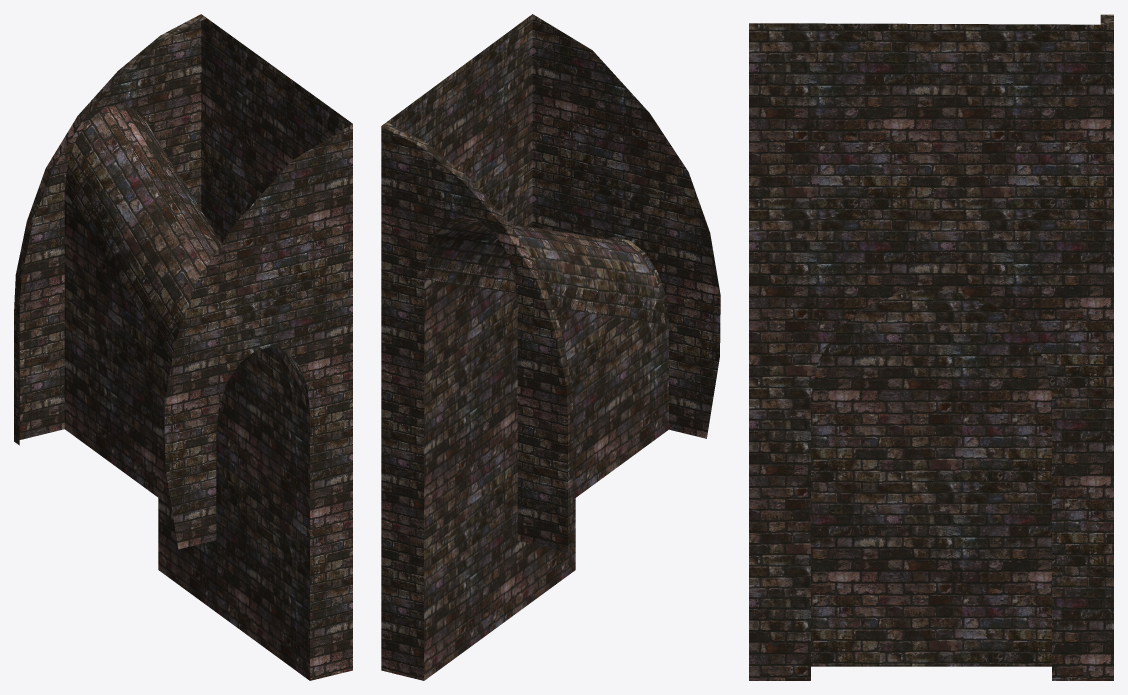
File: stone_arch.DAE
3 views of the same model, side by side, from view 1: azimuth 30°, elevation 25°; view 2: azimuth 150°, elevation 25°; view 3: azimuth 270°, elevation 25° (orthographic). The views are drawn at different scales.
Visible parts, largest first — view 1: stone_arch01; view 2: stone_arch01; view 3: stone_arch01.
Part boxes in pixels (x1=…): stone_arch01: x1=14, y1=14, x2=352, y2=680; stone_arch01: x1=381, y1=14, x2=720, y2=680; stone_arch01: x1=749, y1=14, x2=1113, y2=680.
Bounding box in the file's own units: 3.01 × 8.35 × 4.2.
